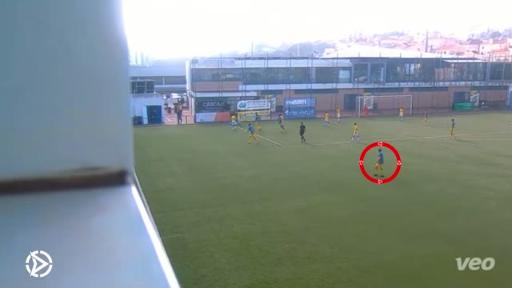highlight_overlay: (359, 140, 404, 185)
